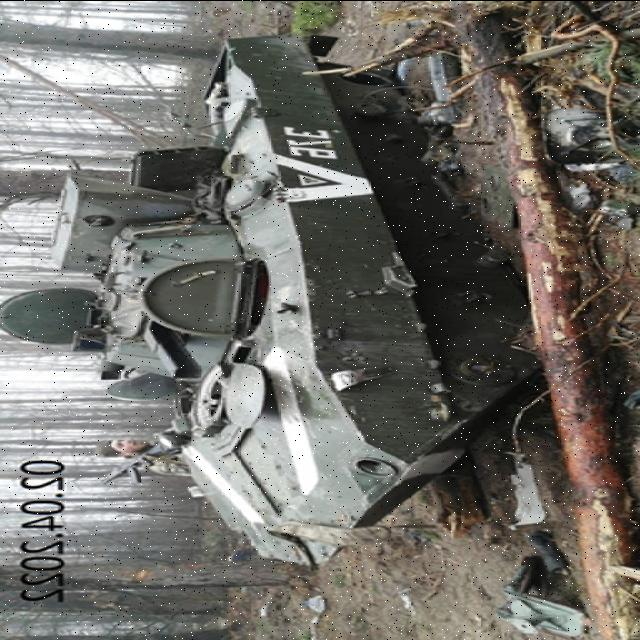APC-IFV: (0, 34, 553, 565)
